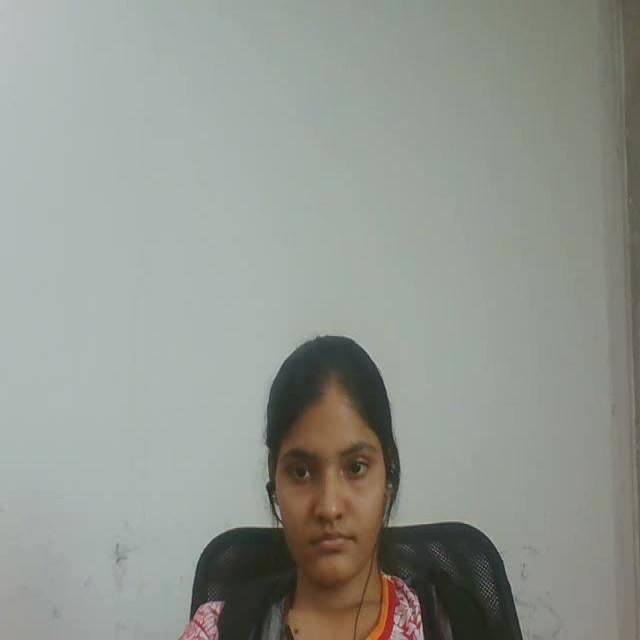Engaged: (251, 314, 415, 606)
